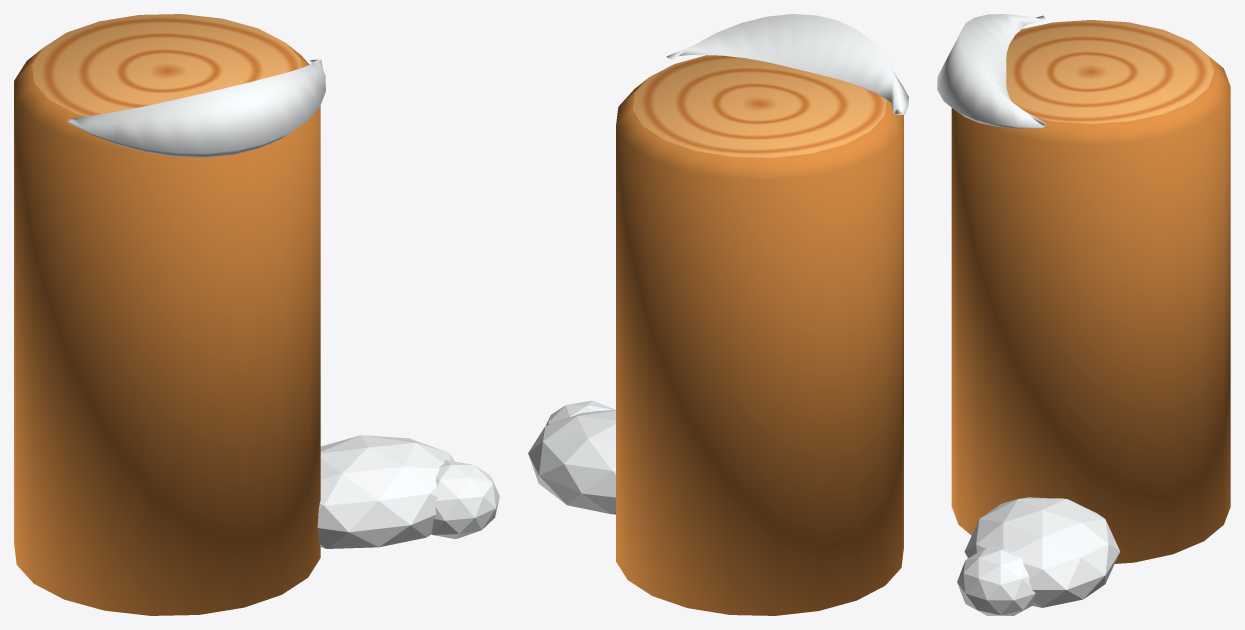
Rendered from Log_Single_05.glb.
3 renders of one model, left to right at view 1: azimuth 30°, elevation 25°; view 2: azimuth 150°, elevation 25°; view 3: azimuth 270°, elevation 25°, orthographic. The views are drawn at different scales.
Visible parts, largest first — view 1: Log_Single_05_Log, Log_Single_05_Snow; view 2: Log_Single_05_Log, Log_Single_05_Snow; view 3: Log_Single_05_Log, Log_Single_05_Snow.
Boxes of the visible parts, <box> form: Log_Single_05_Log: <box>14,14,320,615</box>; Log_Single_05_Snow: <box>67,59,499,548</box>; Log_Single_05_Log: <box>616,55,903,615</box>; Log_Single_05_Snow: <box>528,14,908,514</box>; Log_Single_05_Log: <box>951,20,1230,563</box>; Log_Single_05_Snow: <box>937,14,1120,615</box>.
Size of the model in its own units: 0.3918 by 0.4757 by 0.2693.
Materials: 3 (1 with a texture image).
